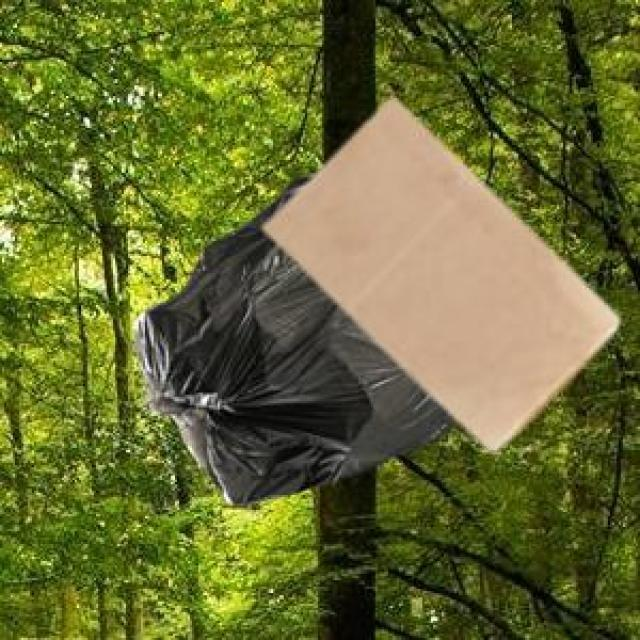miscellaneous trash: (130, 171, 454, 501)
paper: (260, 96, 614, 446)
